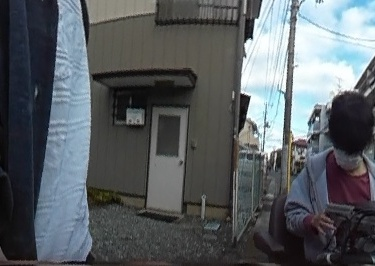person: (287, 89, 375, 248)
